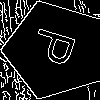P: (30, 25, 86, 71)
